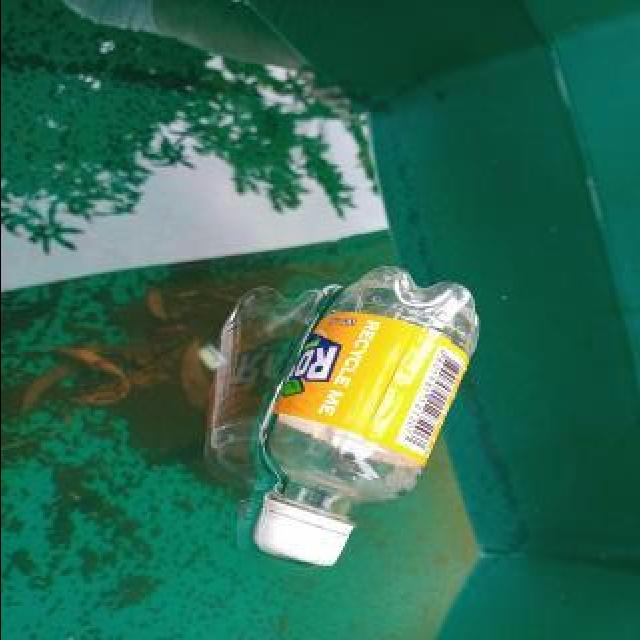Bottle: (239, 260, 487, 576)
